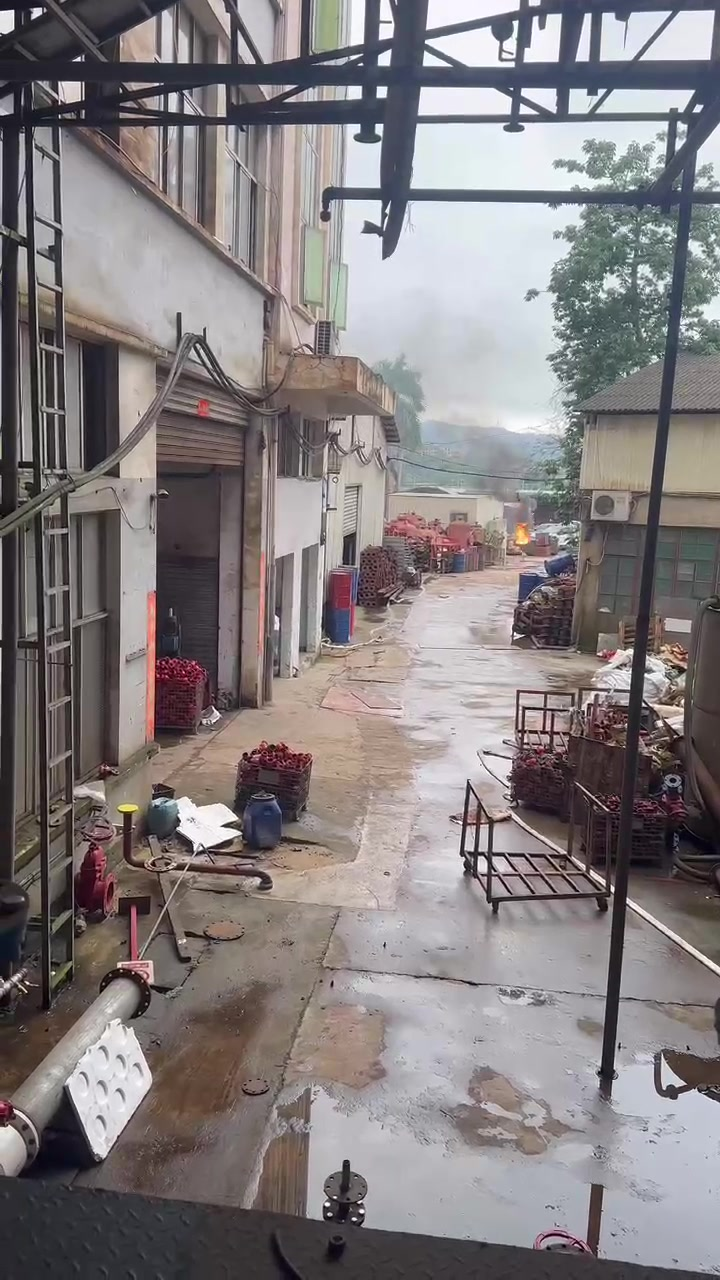fire: (514, 524, 528, 544)
